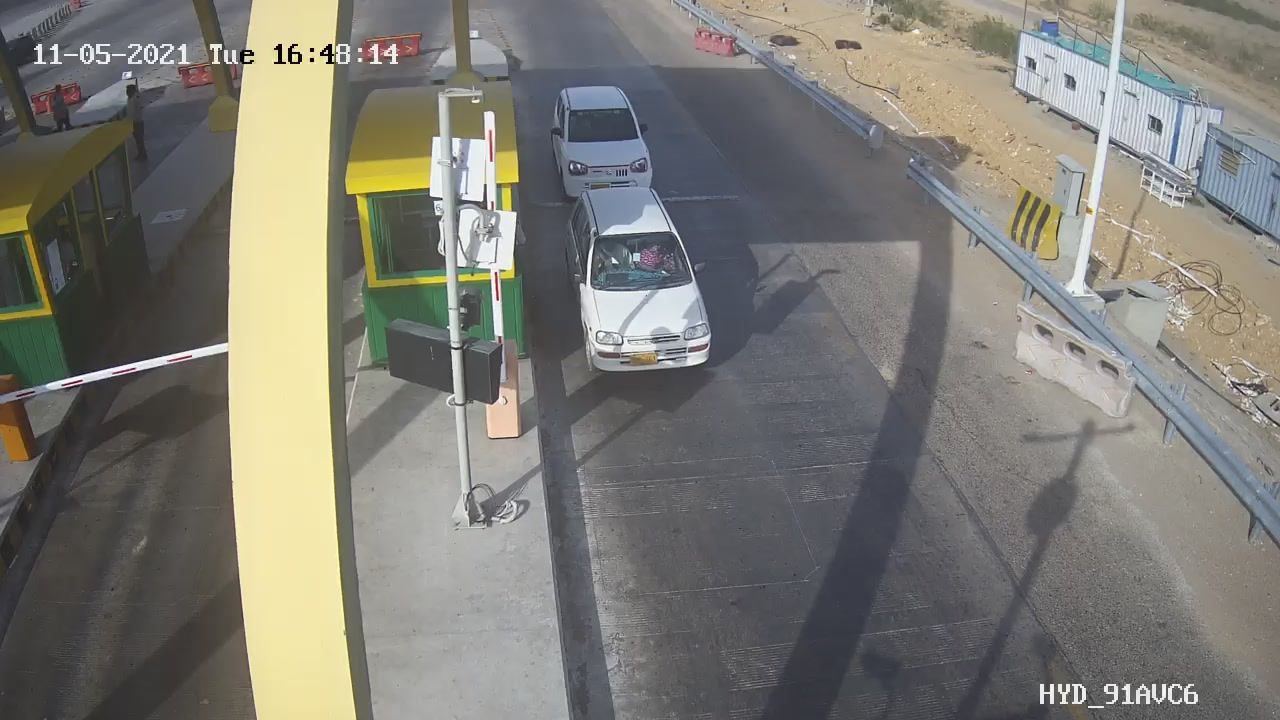F1: (550, 181, 731, 385), (542, 75, 670, 204)
